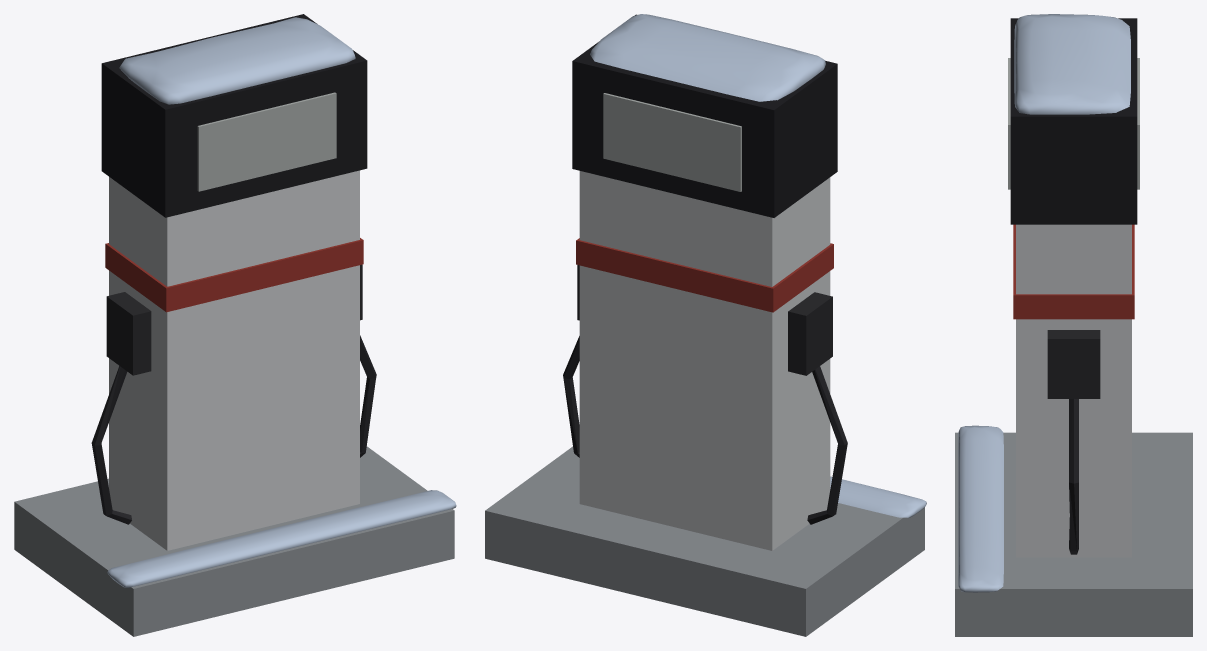
Rendered from fuel_pump.glb.
3 views of the same model, side by side, from view 1: azimuth 30°, elevation 25°; view 2: azimuth 150°, elevation 25°; view 3: azimuth 270°, elevation 25° (orthographic).
Parts seen in each view (by area): view 1: Prop; view 2: Prop; view 3: Prop.
Part boxes in pixels (x1,y1,x2,y2): Prop: [14, 14, 456, 636]; Prop: [485, 14, 926, 636]; Prop: [955, 14, 1192, 636].
Bounding box in the file's own units: 1.46 × 2.11 × 0.9.
